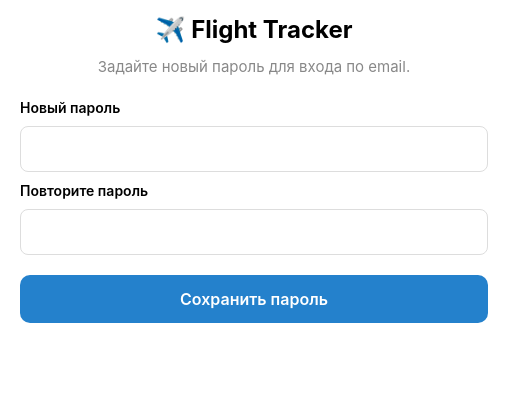
AuthScreen › rejects mismatched recovery passwords
This screenshot has width=509, height=394.
Type "secret12" into the password field labelled "Новый пароль" at x=254, y=149, box left=20, top=126, right=488, bottom=172
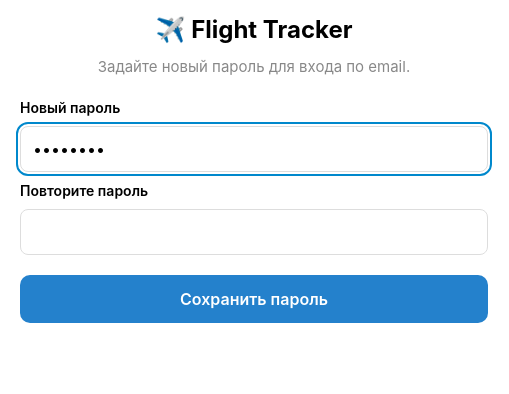
Type "secret13" into the password field labelled "Повторите пароль" at x=254, y=232, box left=20, top=209, right=488, bottom=255
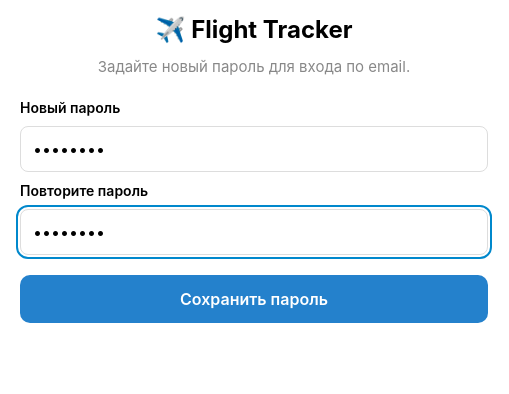
Click the button "Сохранить пароль" at x=254, y=299, box left=20, top=275, right=488, bottom=323
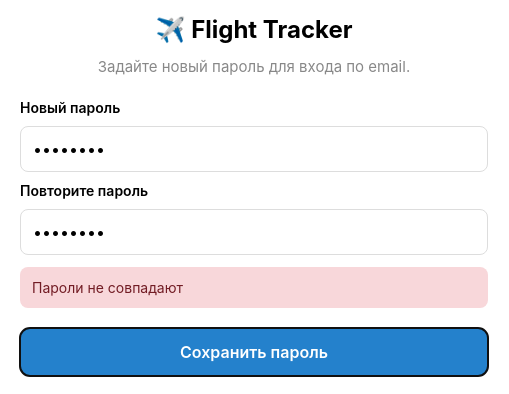
Now the message reads "Пароли не совпадают", box left=32, top=279, right=183, bottom=296
